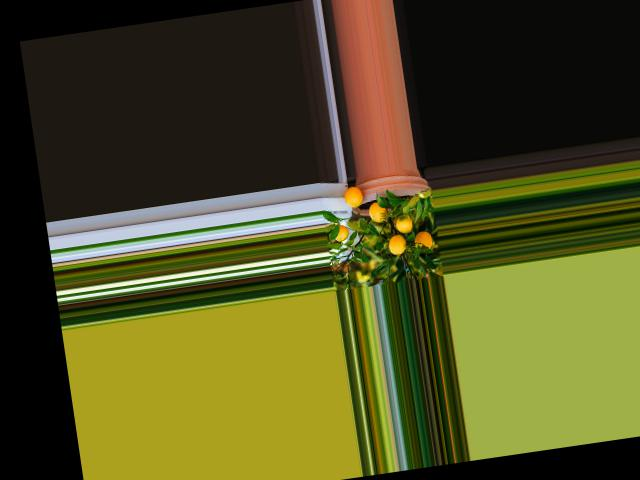lemon: (332, 220, 350, 244)
